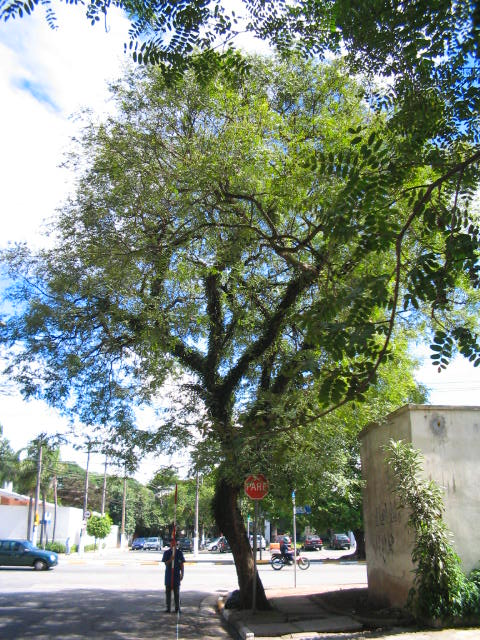crown: (49, 54, 441, 430)
stem: (199, 490, 287, 611)
stick: (166, 483, 182, 617)
tree: (48, 52, 440, 610)
